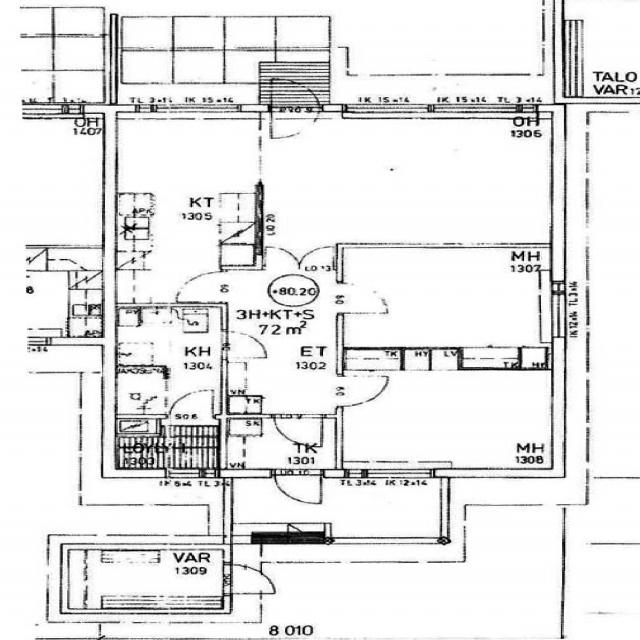door: (271, 73, 319, 113), (271, 104, 319, 143), (273, 414, 322, 450), (222, 564, 278, 594), (275, 469, 321, 505), (172, 271, 227, 301), (336, 376, 390, 406), (336, 284, 389, 313), (170, 387, 213, 419), (220, 331, 268, 357), (264, 244, 299, 270), (299, 244, 333, 270)
